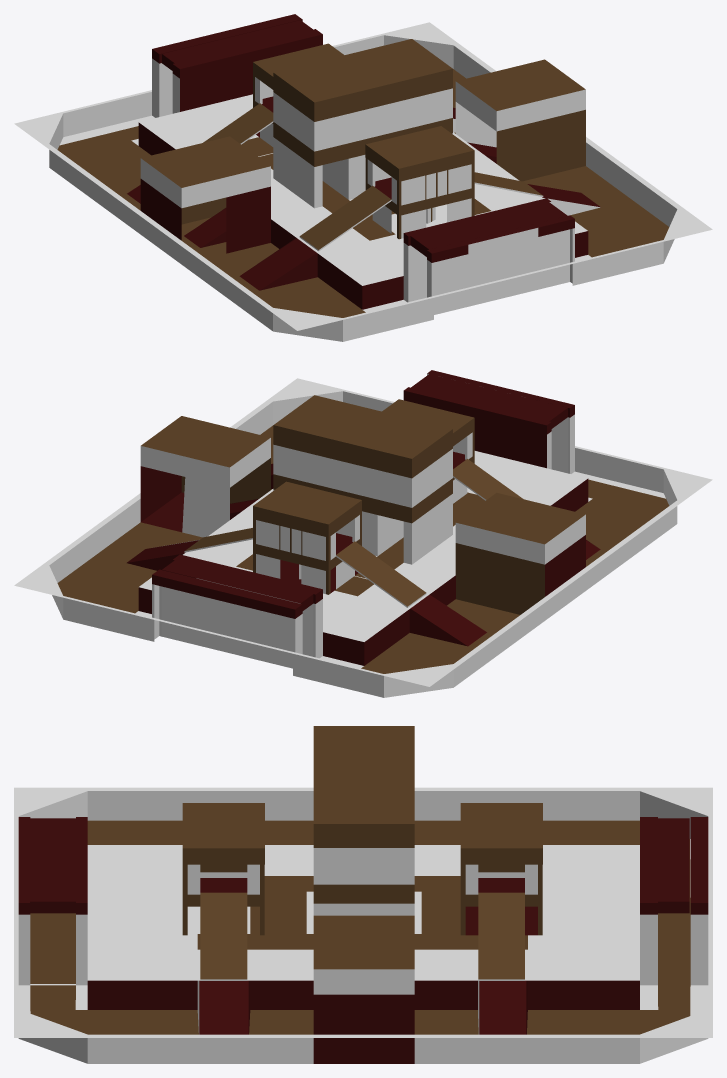
Rendered from mapa_1v1.glb.
The picture shows the model from 3 angles, top to bottom: view 1: azimuth 30°, elevation 25°; view 2: azimuth 150°, elevation 25°; view 3: azimuth 270°, elevation 25°; orthographic projection. The views are drawn at different scales.
Visible parts, largest first — view 1: Plane_2, Cube_0, Cube.001_1; view 2: Plane_2, Cube.001_1, Cube_0; view 3: Plane_2, Cube.001_1, Cube_0.
Part boxes in pixels (x1=…): Plane_2: x1=14, y1=14, x2=712, y2=341; Cube_0: x1=299, y1=126, x2=543, y2=251; Cube.001_1: x1=203, y1=43, x2=344, y2=146; Plane_2: x1=14, y1=370, x2=712, y2=697; Cube.001_1: x1=184, y1=481, x2=426, y2=607; Cube_0: x1=382, y1=399, x2=522, y2=503; Plane_2: x1=14, y1=726, x2=712, y2=1063; Cube.001_1: x1=460, y1=803, x2=542, y2=980; Cube_0: x1=182, y1=803, x2=264, y2=980.
Bounding box in the file's own units: 44.33 × 13.21 × 52.34.
